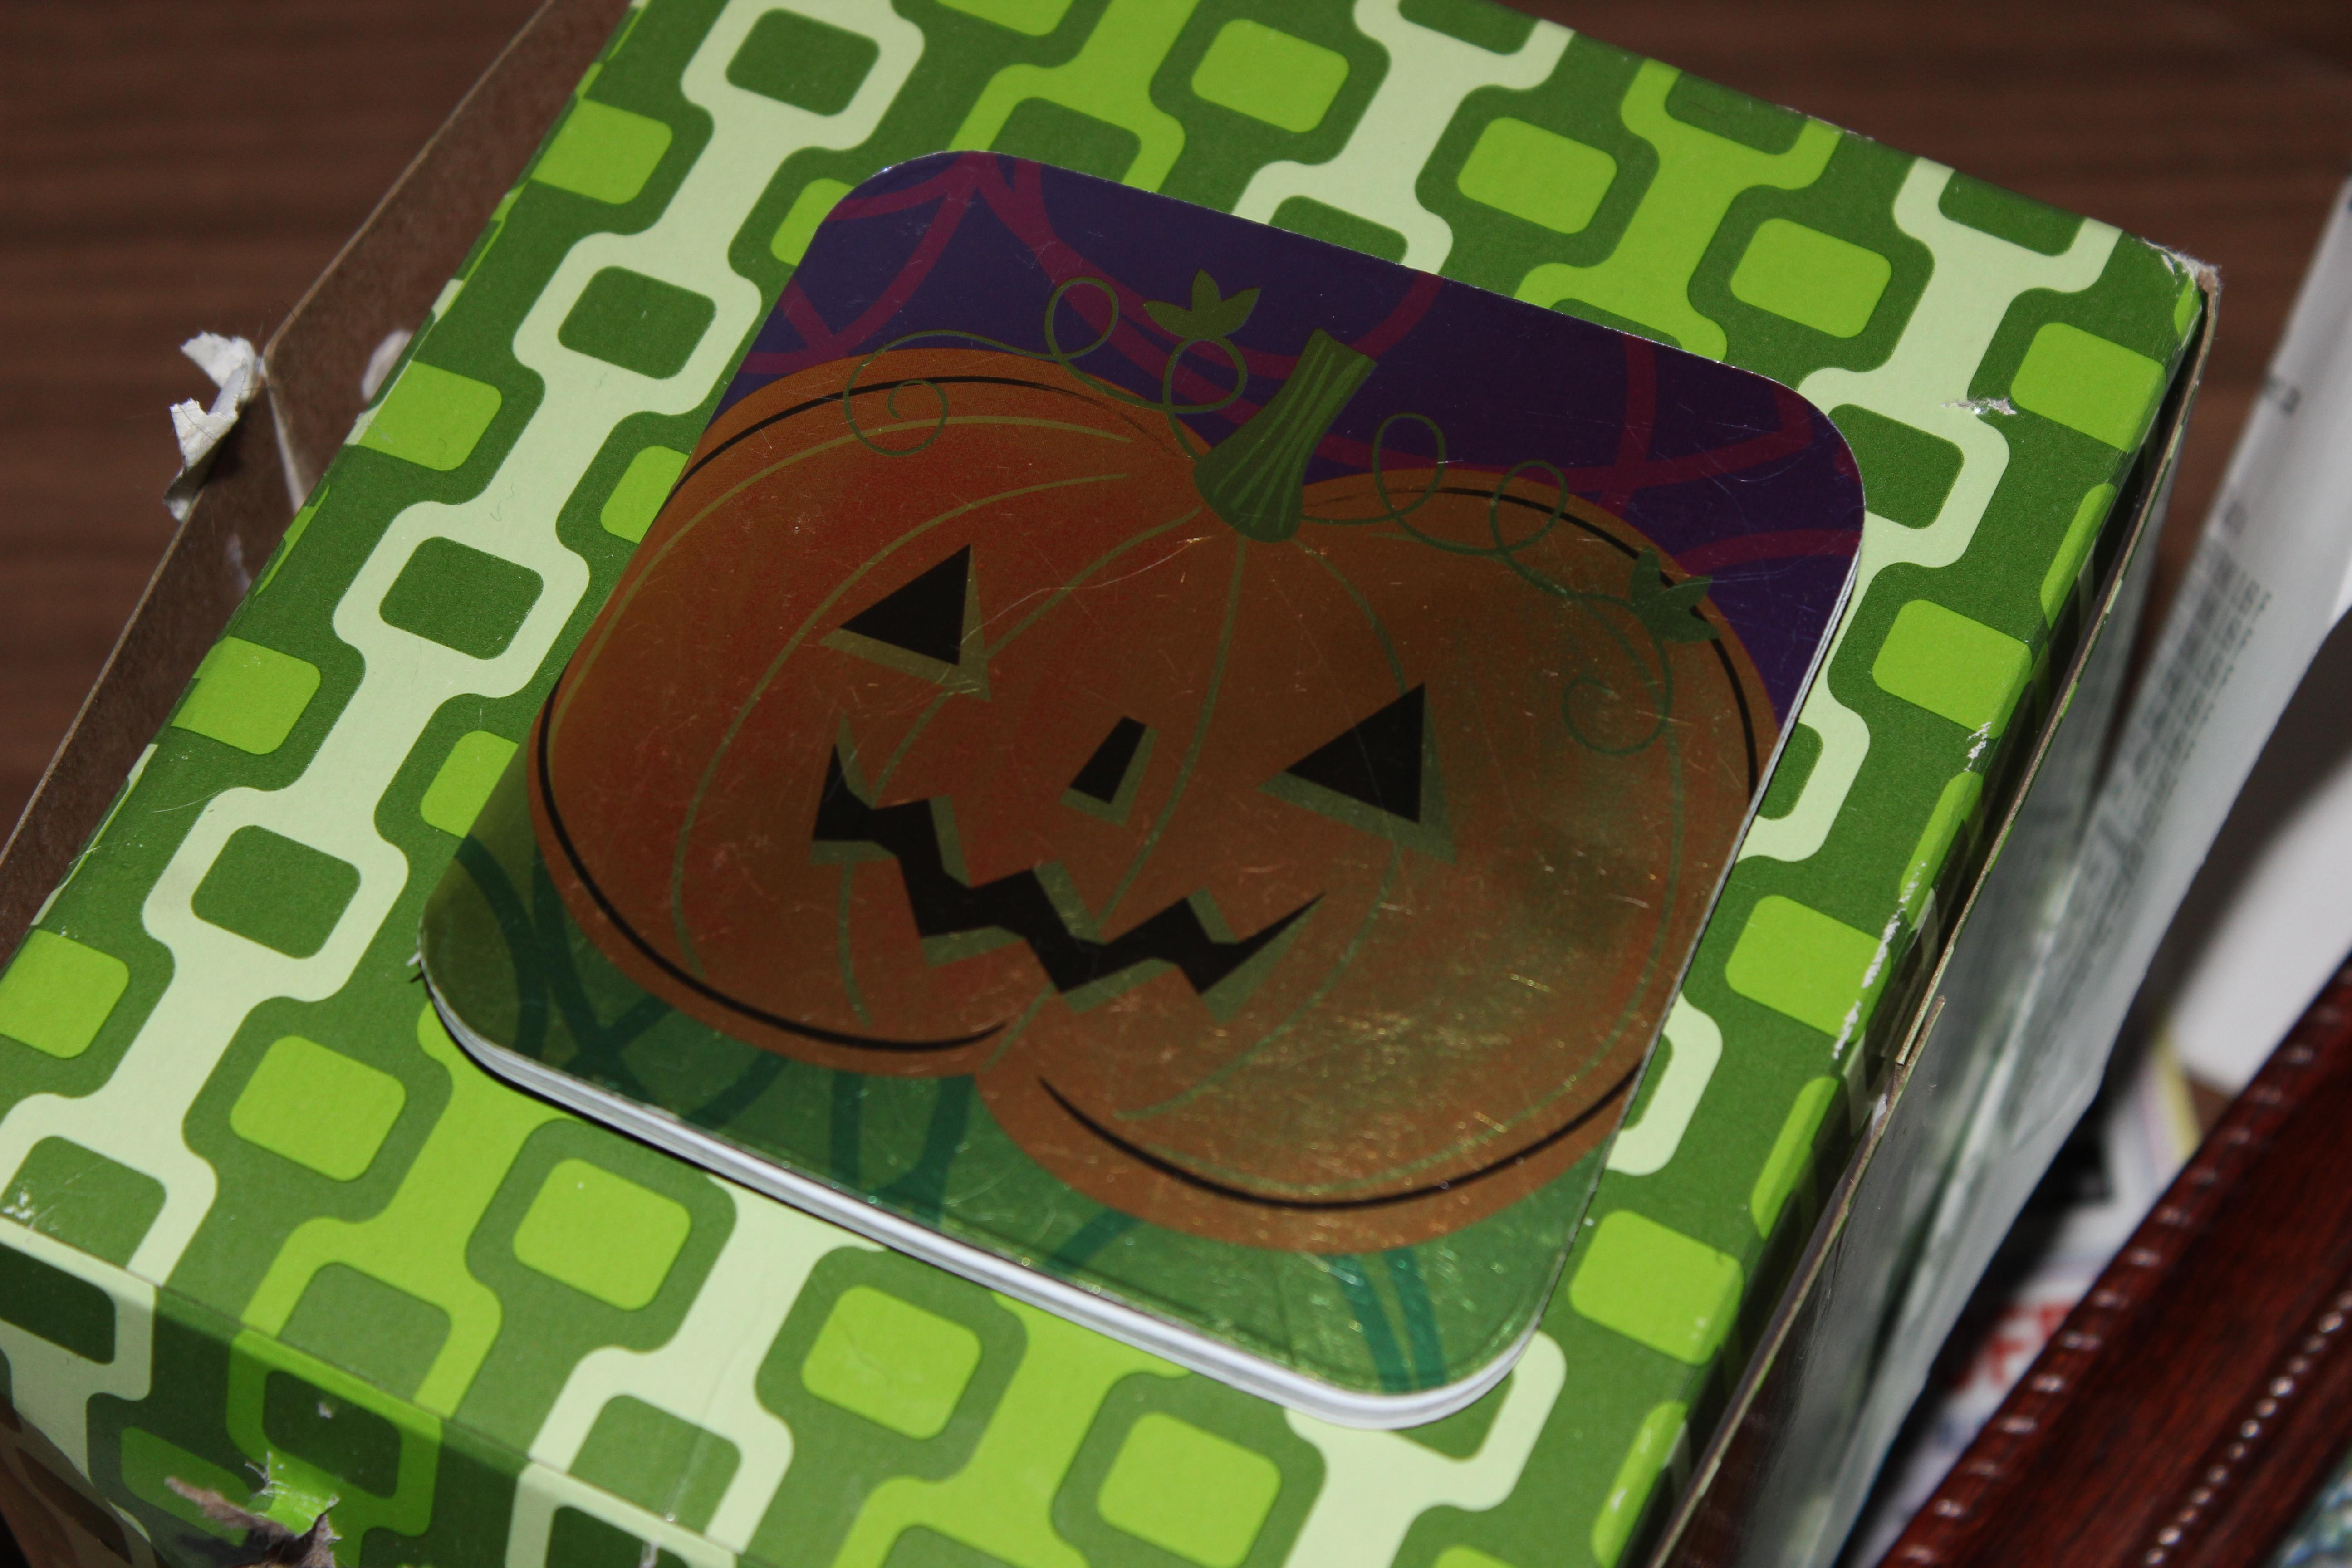pumpkinNotes: (392, 117, 1897, 1452)
